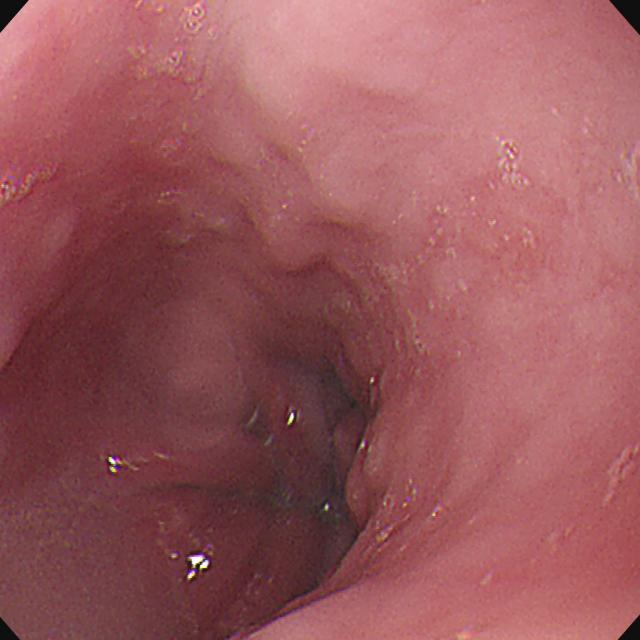J: (605, 444, 640, 507)
U: (185, 554, 211, 582)
